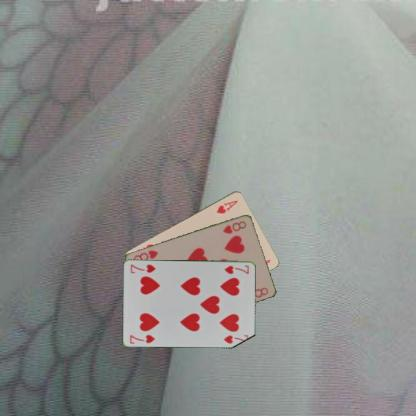7h: (222, 263, 250, 275), (127, 333, 156, 344)
8h: (220, 218, 247, 234)
Ah: (214, 197, 238, 215)
